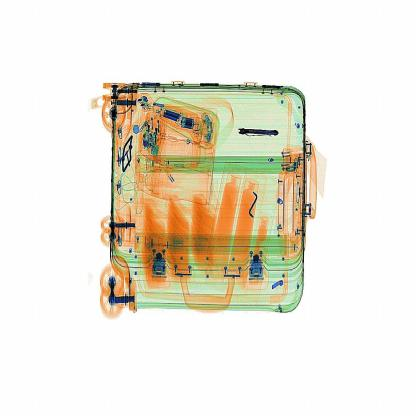knife: (231, 118, 288, 143)
